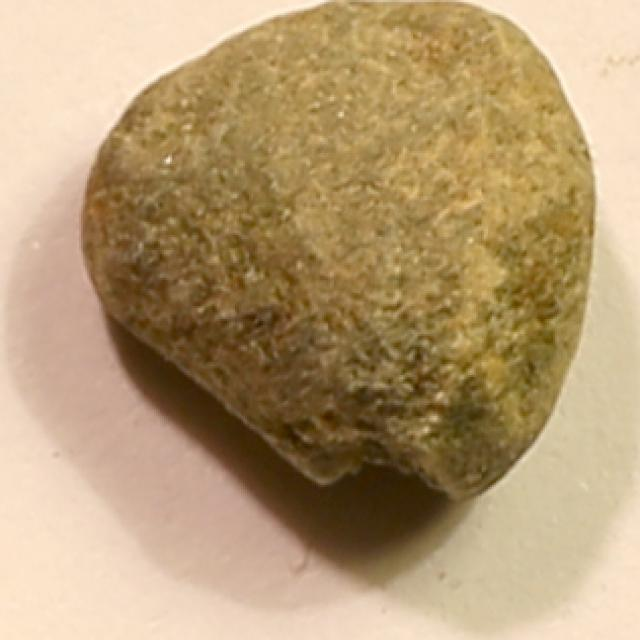stone: (78, 2, 606, 512)
